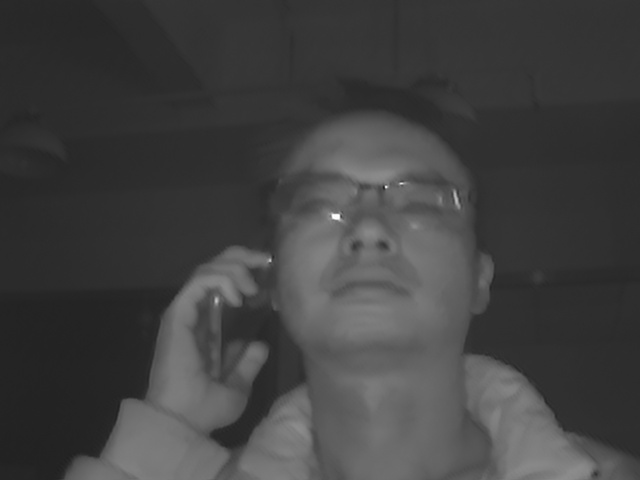hand: (147, 242, 274, 435)
